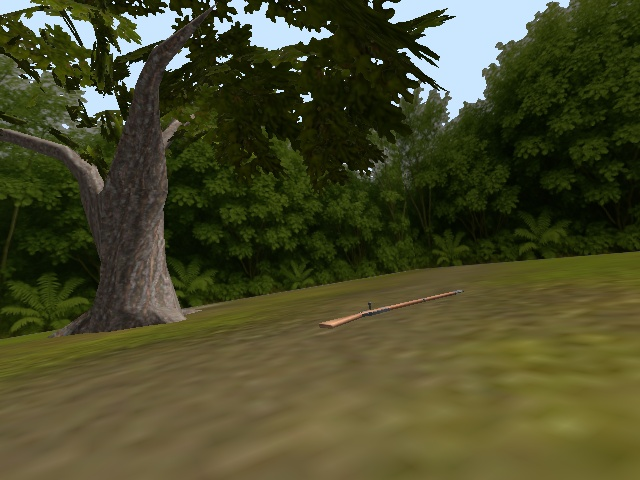rifle: (318, 287, 466, 334)
